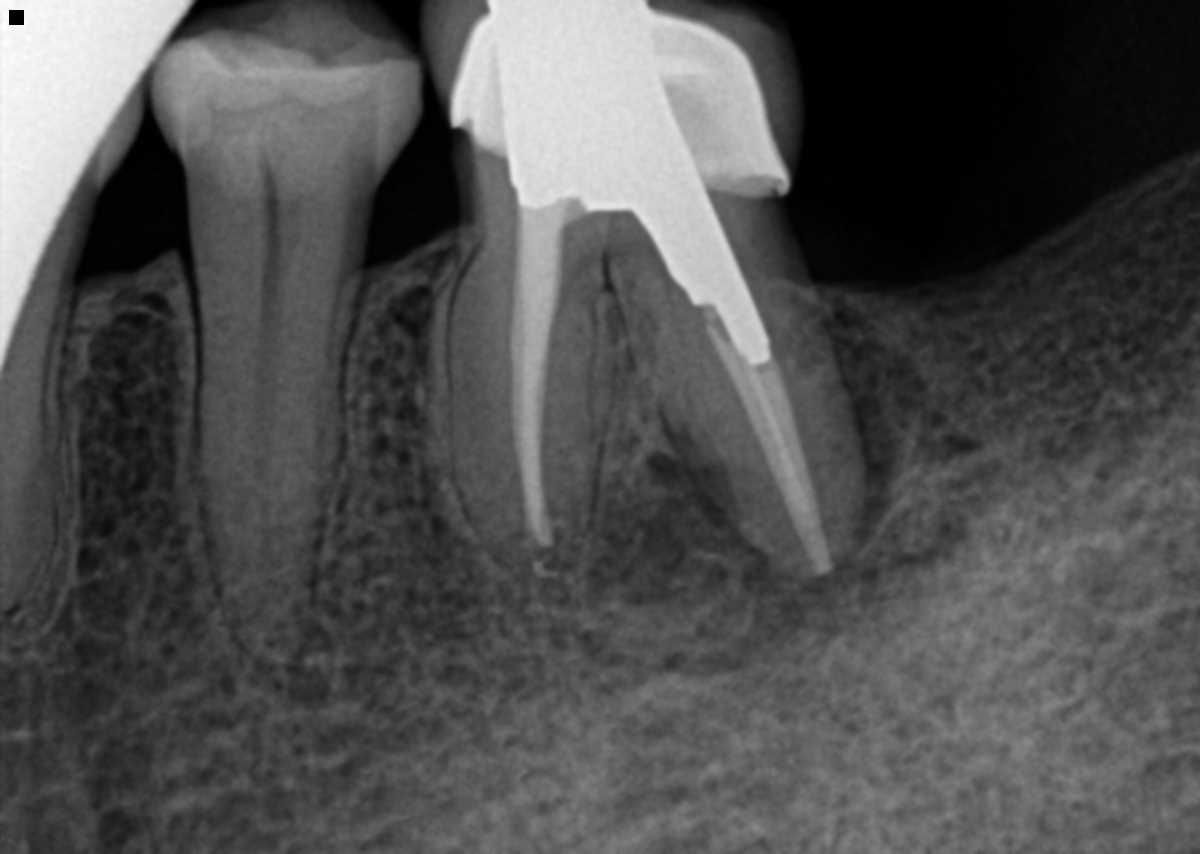Apical Lesion: (584, 312, 1004, 681), (257, 611, 340, 710)
Distal Root: (638, 246, 867, 580)
Main Canal: (255, 267, 284, 580)
Main Root: (184, 257, 371, 675), (0, 310, 67, 618)
Mesial Root: (450, 246, 613, 579)
Root Canal Filling: (692, 313, 834, 578), (510, 254, 569, 553)
